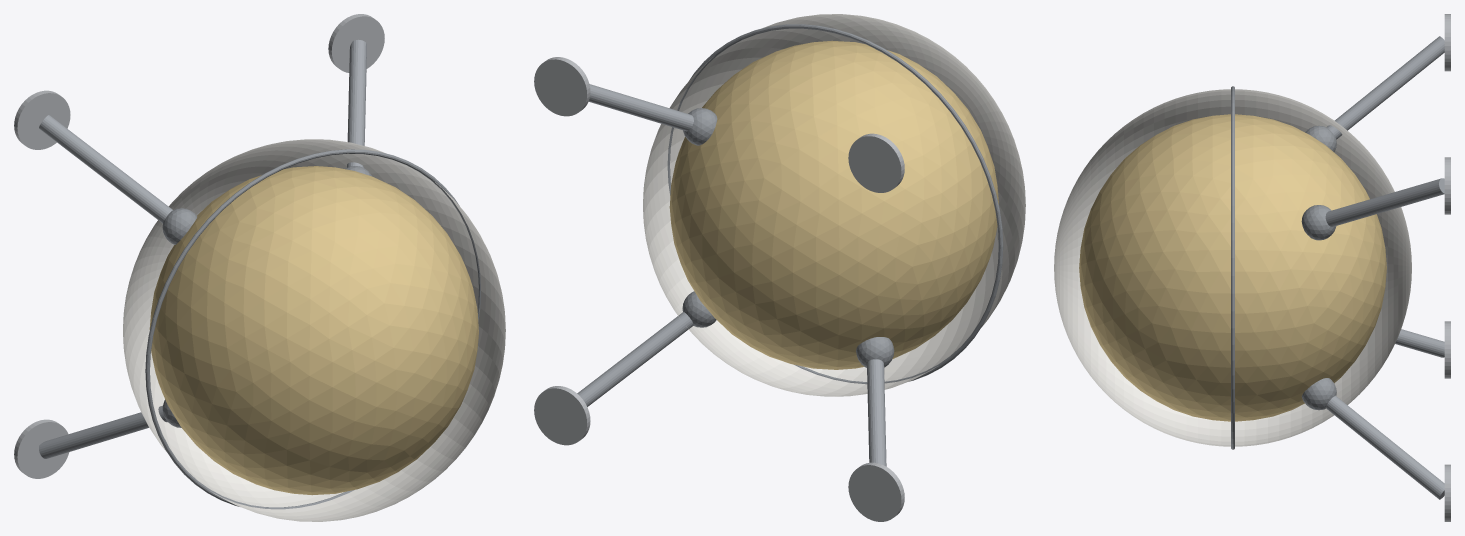
The model's file is concept1_terrain_touchdown.glb.
3 views of the same model, side by side, from view 1: azimuth 30°, elevation 25°; view 2: azimuth 150°, elevation 25°; view 3: azimuth 270°, elevation 25° (orthographic). The views are drawn at different scales.
Parts seen in each view (by area): view 1: CrushLayer, OuterShell_Bottom, OuterShell_Top, Equator_Seam, Leg2_Strut, Leg2_Foot, Leg3_Foot, Leg1_Foot, Leg3_Strut, Leg1_Strut, Leg2_Boss; view 2: CrushLayer, OuterShell_Top, OuterShell_Bottom, Equator_Seam, Leg2_Foot, Leg3_Foot, Leg4_Foot, Leg1_Foot, Leg4_Strut, Leg1_Strut, Leg3_Strut, Leg3_Boss (+2 smaller); view 3: CrushLayer, OuterShell_Top, OuterShell_Bottom, Leg4_Strut, Leg2_Strut, Leg1_Strut, Equator_Seam, Leg1_Boss, Leg3_Strut, Leg4_Boss.
Boxes of the visible parts, x1,y1,x2,y2 form: CrushLayer: (149,166,478,495); OuterShell_Bottom: (123,139,478,507); OuterShell_Top: (212,182,505,521); Equator_Seam: (145,149,480,509); Leg2_Strut: (39,115,172,223); Leg2_Foot: (14,90,70,149); Leg3_Foot: (14,419,69,478); Leg1_Foot: (328,14,384,72); Leg3_Strut: (39,405,167,458); Leg1_Strut: (347,39,366,167); Leg2_Boss: (162,208,197,244); CrushLayer: (669,40,998,369); OuterShell_Top: (670,14,1025,381); OuterShell_Bottom: (643,57,937,396); Equator_Seam: (667,24,1003,384); Leg2_Foot: (848,133,904,192); Leg3_Foot: (848,462,904,521); Leg4_Foot: (534,386,590,445); Leg1_Foot: (534,57,590,116); Leg4_Strut: (577,312,693,406); Leg1_Strut: (588,84,693,131); Leg3_Strut: (867,359,886,466); Leg3_Boss: (856,337,894,367); CrushLayer: (1079,114,1386,421); OuterShell_Top: (1054,89,1230,446); OuterShell_Bottom: (1235,89,1411,446); Leg4_Strut: (1325,395,1444,499); Leg2_Strut: (1326,36,1444,139); Leg1_Strut: (1325,178,1444,226); Equator_Seam: (1231,86,1234,449); Leg1_Boss: (1301,205,1336,240); Leg3_Strut: (1395,329,1444,357); Leg4_Boss: (1301,378,1336,410).
Bounding box in the file's own units: 2.22 × 2.22 × 2.22.
